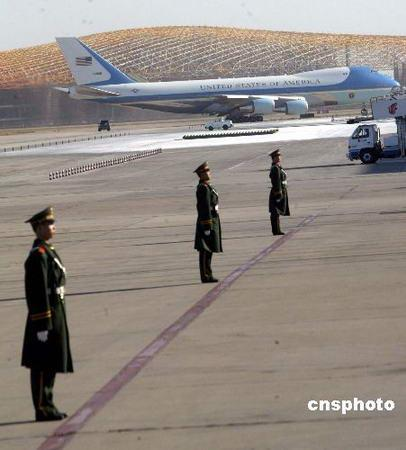up: (18, 199, 78, 424), (186, 159, 227, 286), (265, 146, 294, 239)
